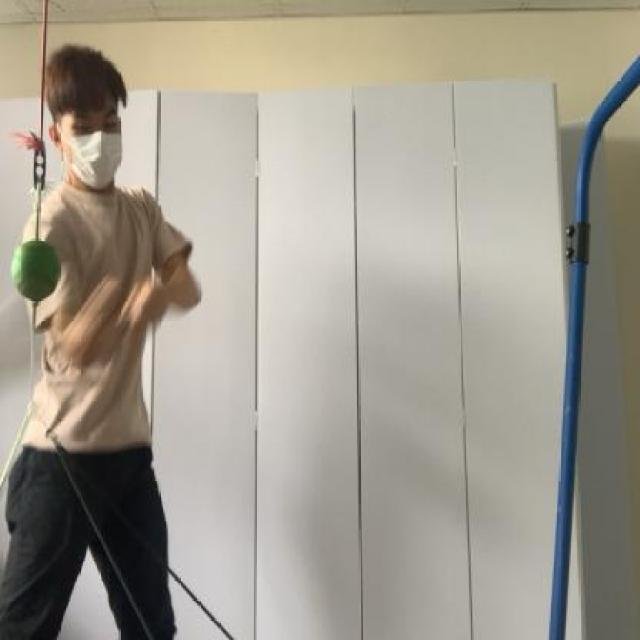baseball: (3, 220, 71, 320)
